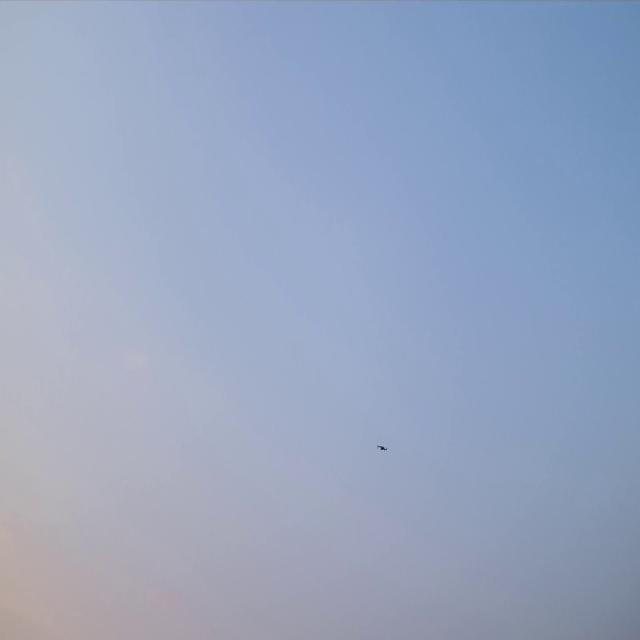UAV: (377, 444, 387, 451)
